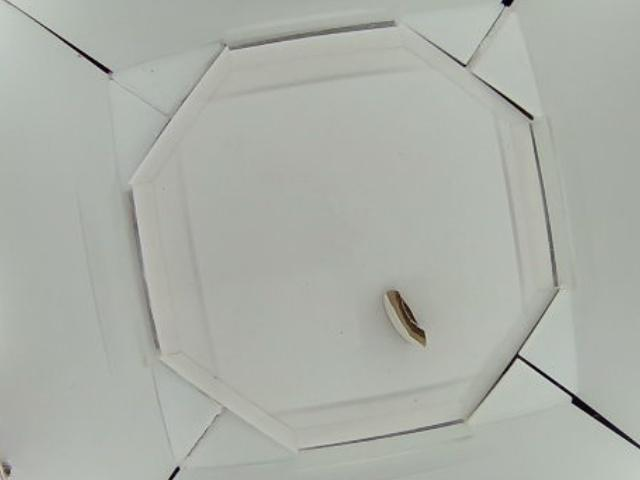China: (380, 288, 427, 347)
